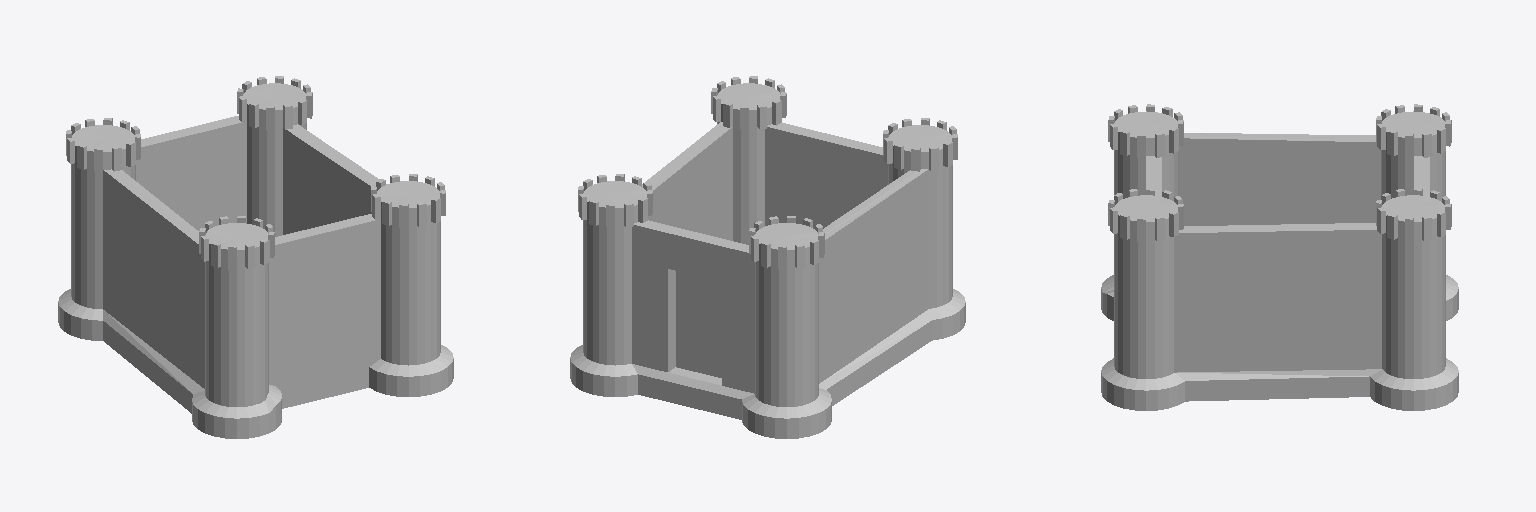
Rendered from small-castle_multi.obj.
3 renders of one model, left to right at view 1: azimuth 30°, elevation 25°; view 2: azimuth 150°, elevation 25°; view 3: azimuth 270°, elevation 25°, orthographic.
Parts seen in each view (by area): view 1: Cylinder003; view 2: Cylinder003, door; view 3: Cylinder003.
Boxes of the visible parts, x1,y1,x2,y2 form: Cylinder003: [58, 76, 453, 438]; Cylinder003: [570, 76, 965, 438]; door: [676, 271, 721, 377]; Cylinder003: [1101, 104, 1458, 410].
Size of the model in its own units: 108 by 78.11 by 134.